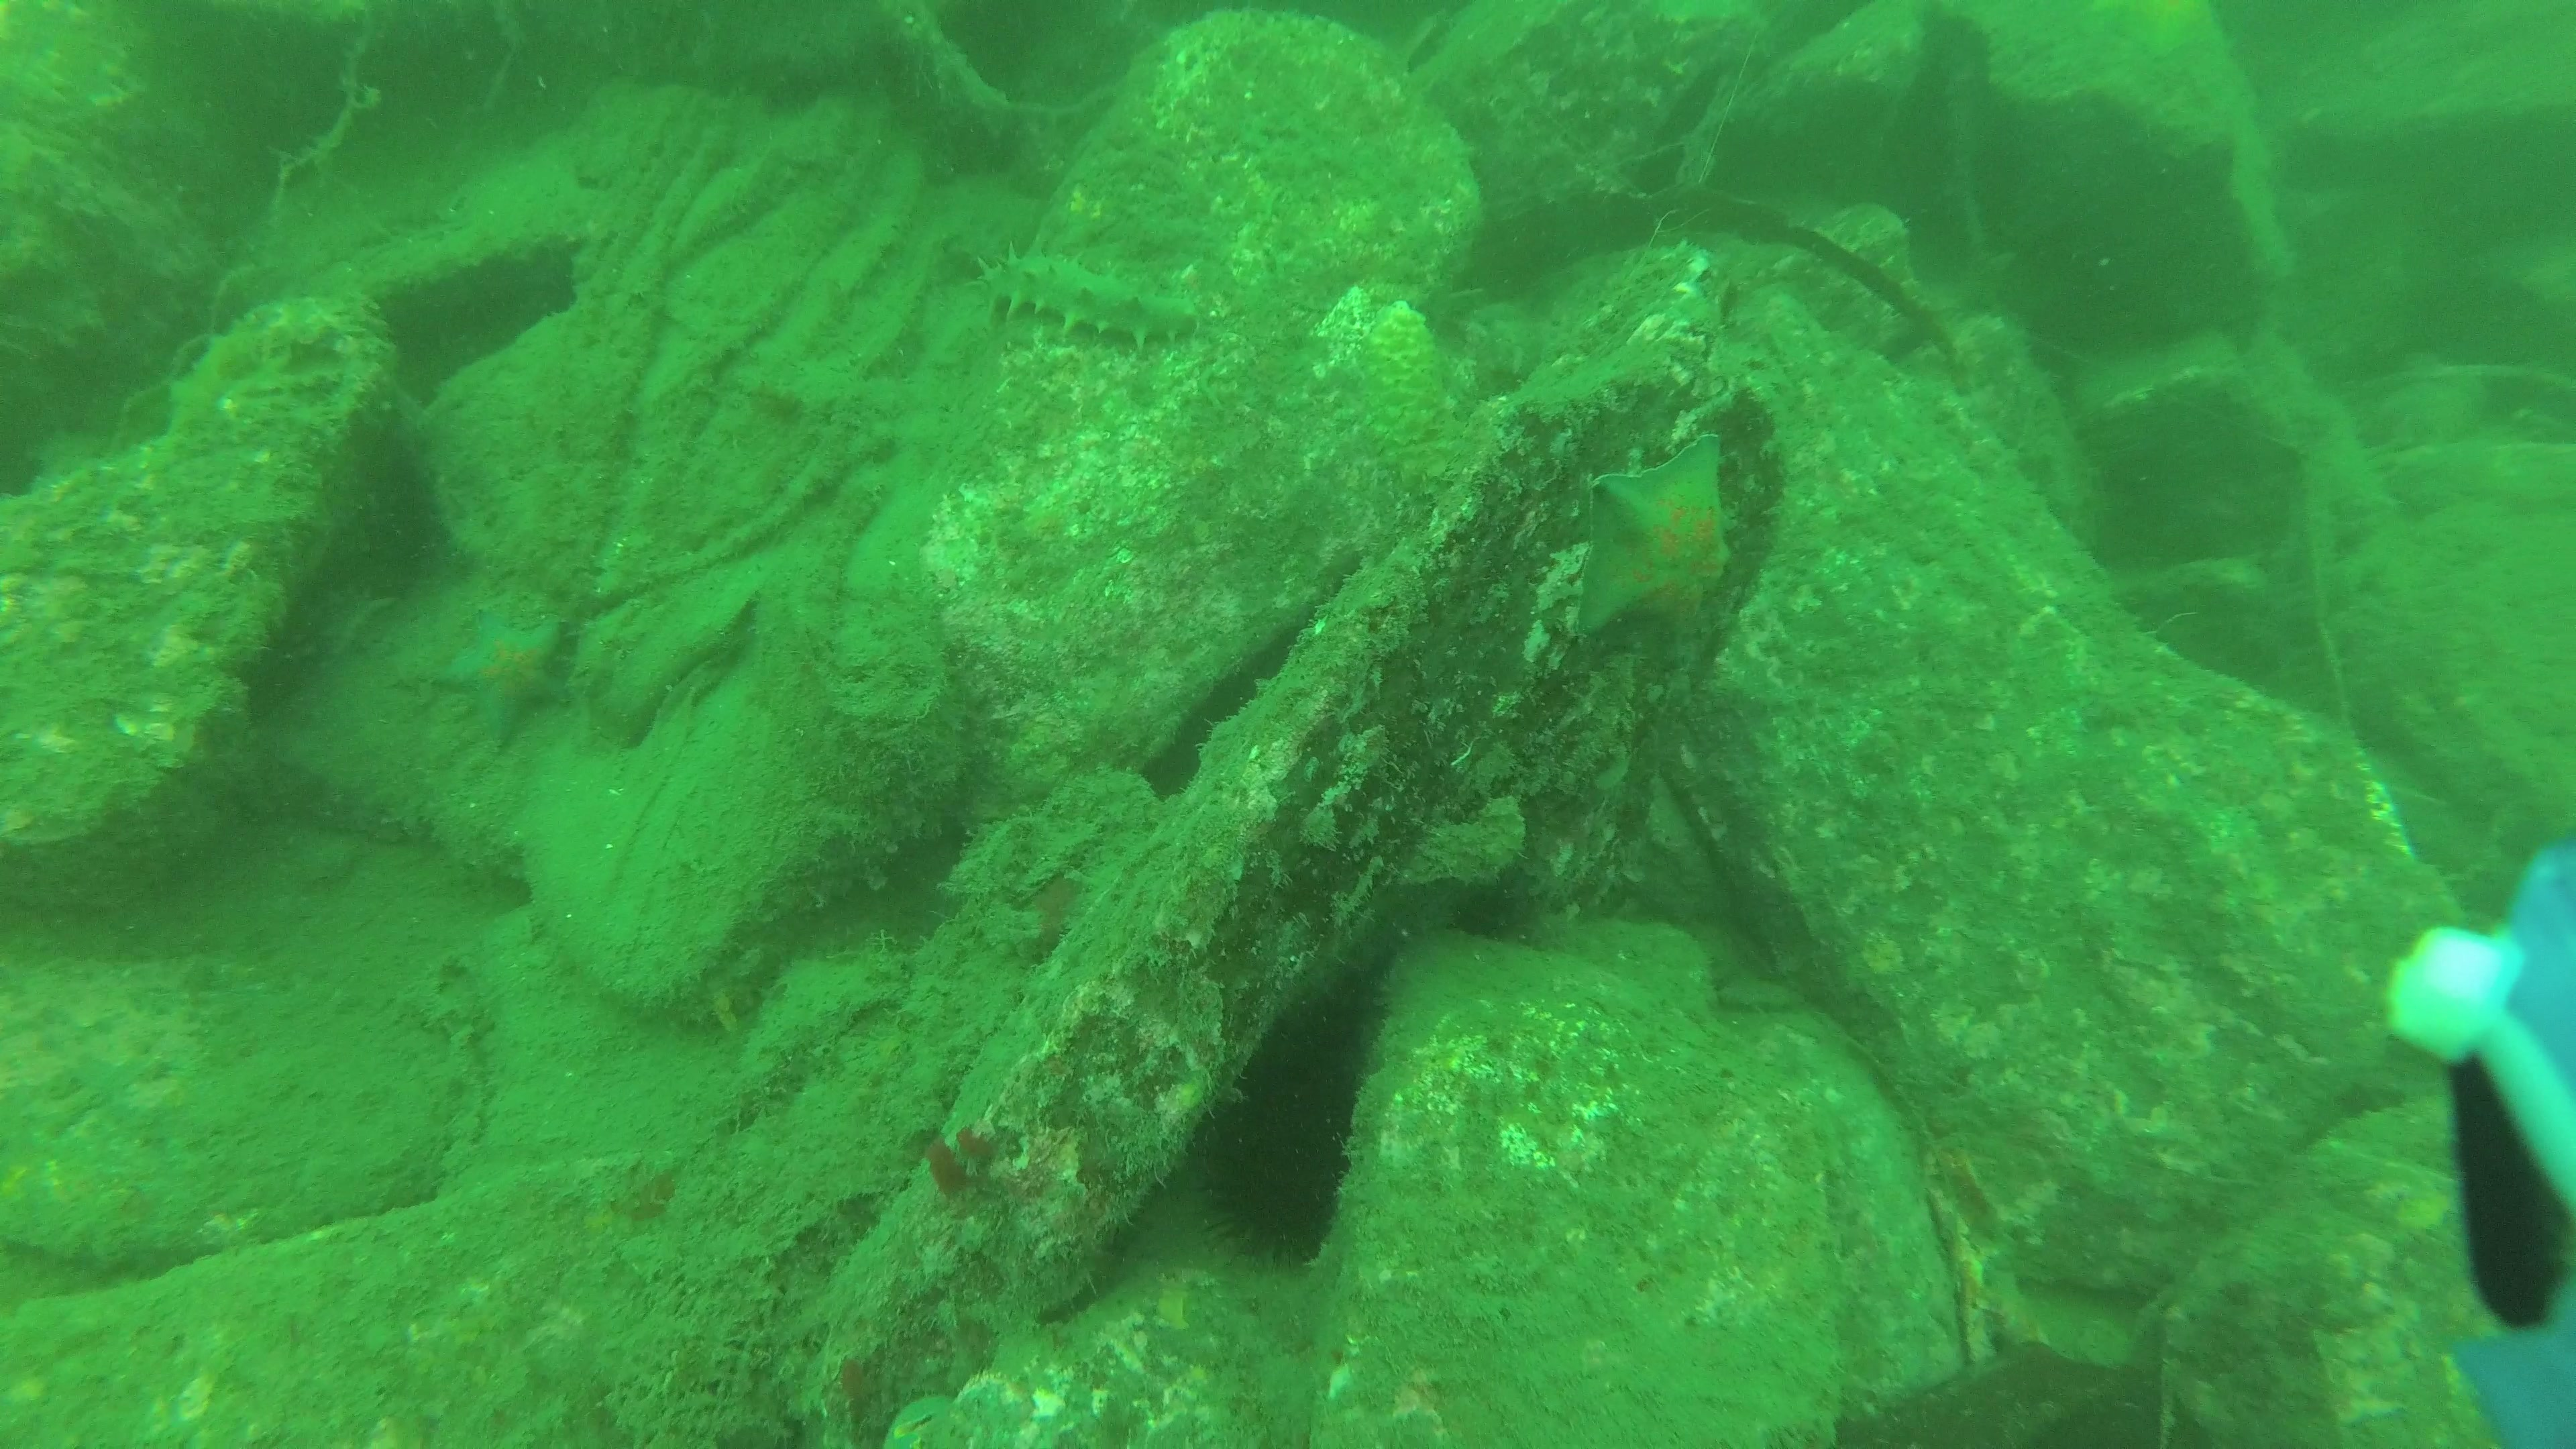echinus: (1185, 1058, 1364, 1279)
holothurian: (973, 242, 1208, 354)
starfish: (1566, 430, 1737, 648), (423, 598, 575, 766)
